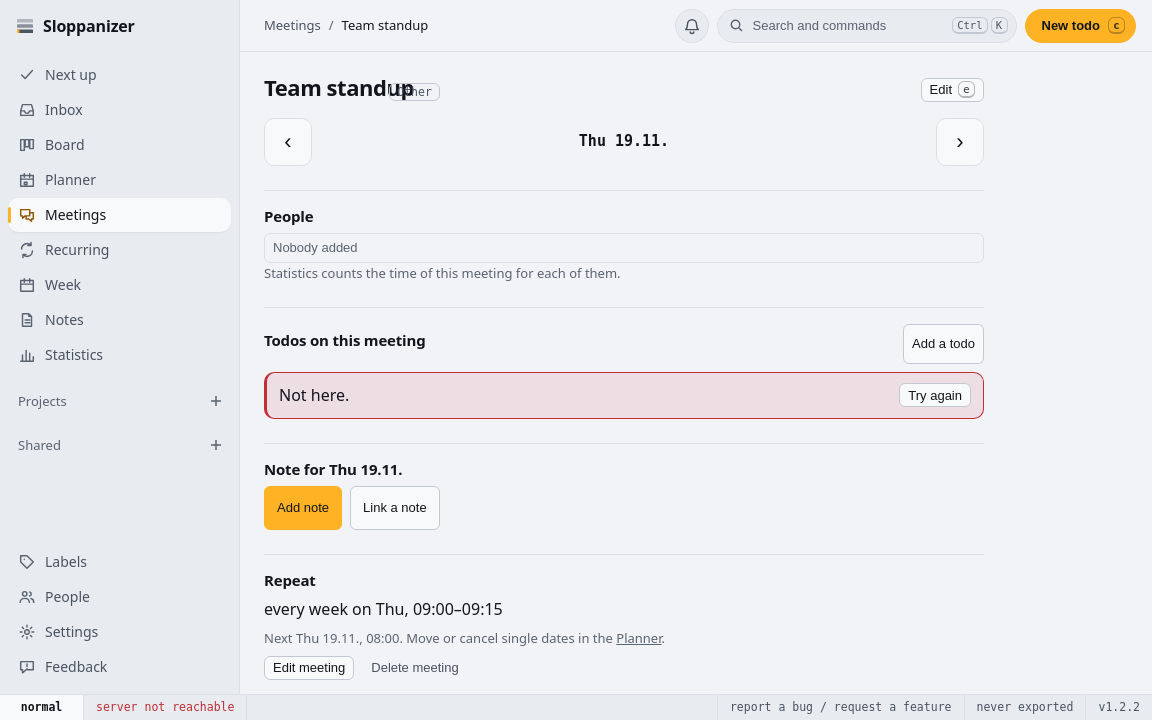
it: note per meeting date › adds a new note for the date and opens it to write
Expected: the heading "Note for Thu 19.11." is shown, [264,459,402,479]
What coordinates should you click on to do the following:
click the button "Add note"
I would click on:
 (303, 508)
Its box is [264,486,342,530].
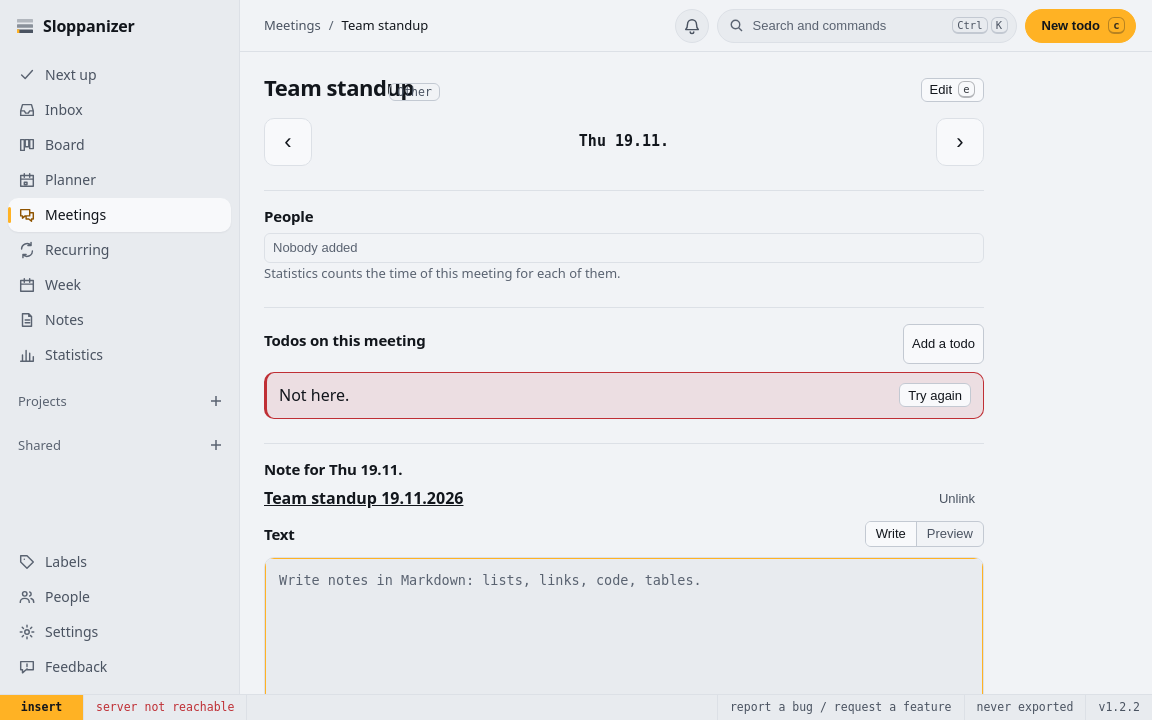
Result: the link "Team standup 19.11.2026" is shown at [264,487,464,509]
